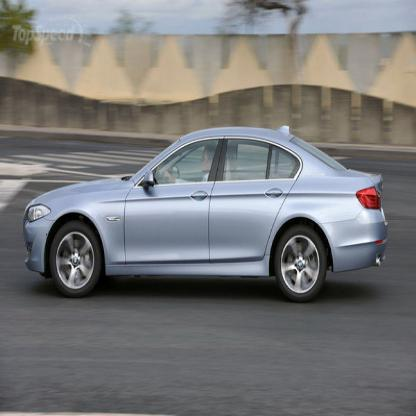Vehicle: (19, 117, 399, 306)
